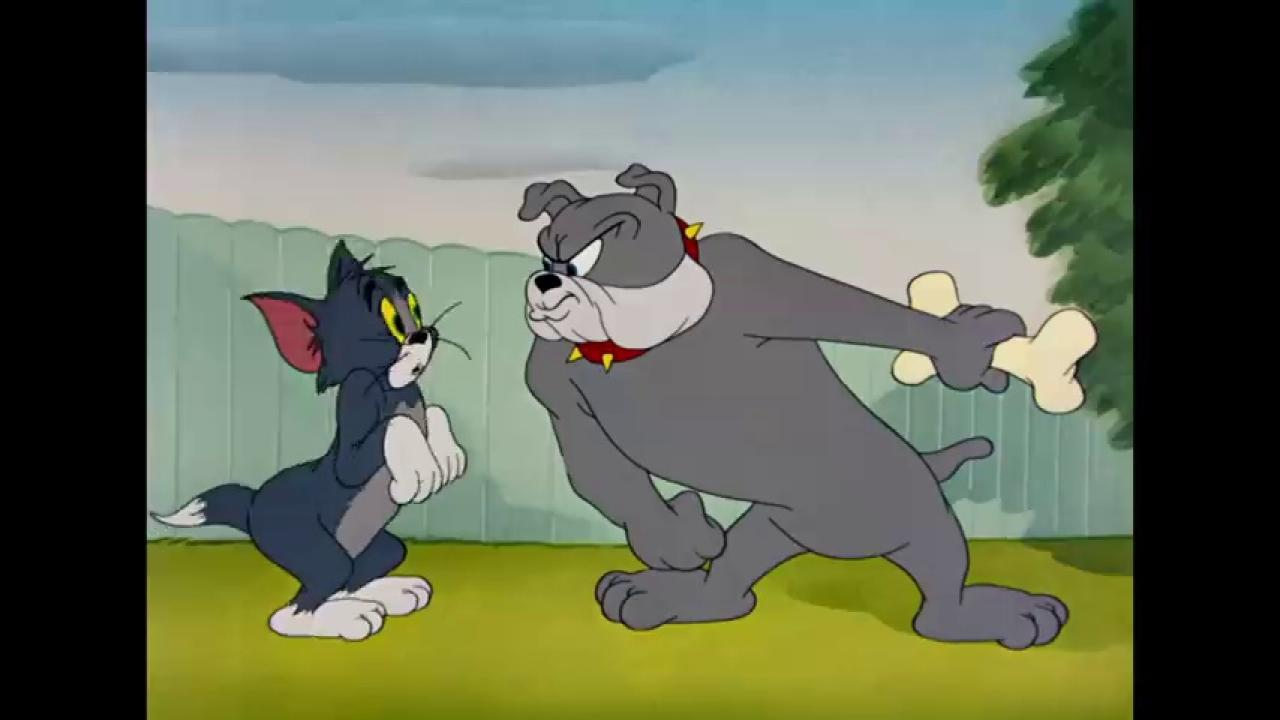Tom: (149, 235, 469, 641)
